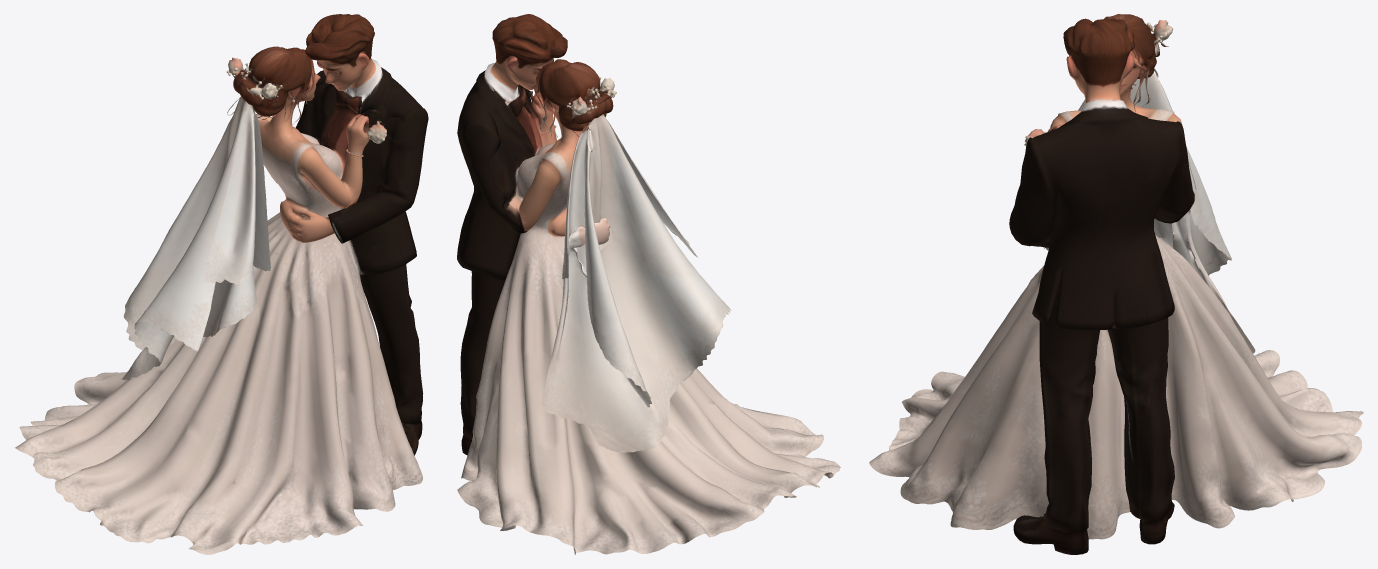
File: wedding-couple-3d.glb
3 renders of one model, left to right at view 1: azimuth 30°, elevation 25°; view 2: azimuth 150°, elevation 25°; view 3: azimuth 270°, elevation 25°, orthographic. The views are drawn at different scales.
Parts seen in each view (by area): view 1: tripo_node_29077dc5-e894-4989-b4e4-6265882c1828; view 2: tripo_node_29077dc5-e894-4989-b4e4-6265882c1828; view 3: tripo_node_29077dc5-e894-4989-b4e4-6265882c1828.
Boxes of the visible parts, x1,y1,x2,y2 form: tripo_node_29077dc5-e894-4989-b4e4-6265882c1828: (15,14,428,554); tripo_node_29077dc5-e894-4989-b4e4-6265882c1828: (457,14,840,554); tripo_node_29077dc5-e894-4989-b4e4-6265882c1828: (869,14,1363,554).
Bounding box in the file's own units: 0.8794 × 0.9995 × 0.8931.
Materials: 1 (1 with a texture image).
